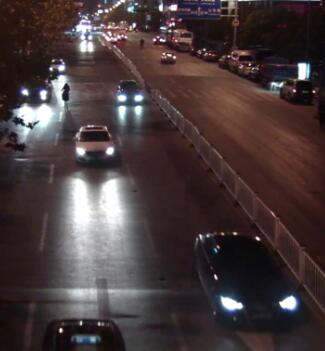bus: (163, 26, 193, 49), (158, 24, 171, 44)
car: (193, 231, 302, 330), (41, 319, 126, 351), (71, 124, 117, 163), (258, 53, 298, 88), (277, 76, 313, 103), (17, 79, 50, 103), (115, 78, 142, 105), (227, 49, 249, 72), (47, 57, 65, 73), (240, 59, 256, 75), (158, 50, 176, 64), (217, 52, 232, 68), (201, 47, 218, 60), (80, 28, 94, 41), (151, 33, 164, 43), (116, 32, 127, 41)
